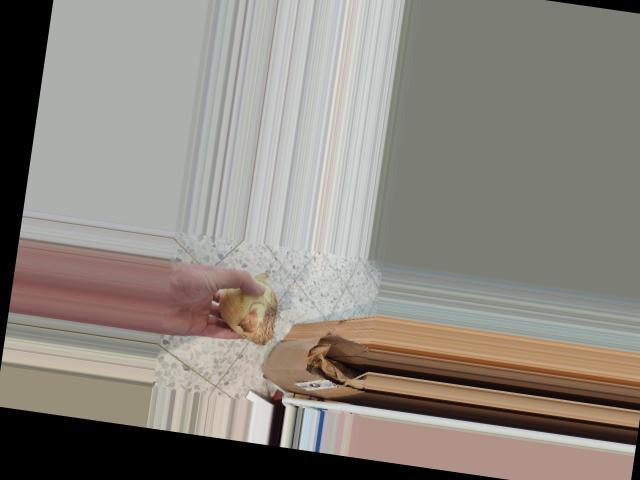onion: (209, 269, 289, 348)
